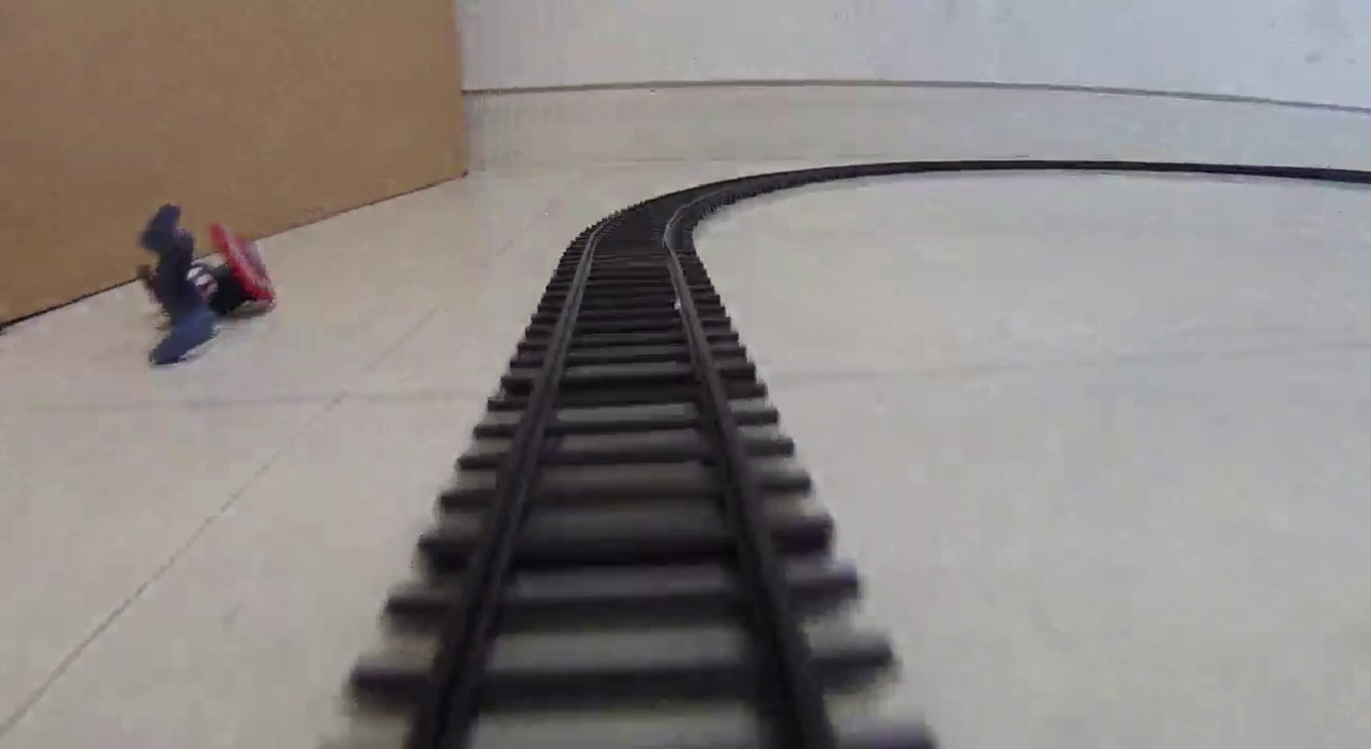people: (139, 204, 277, 367)
